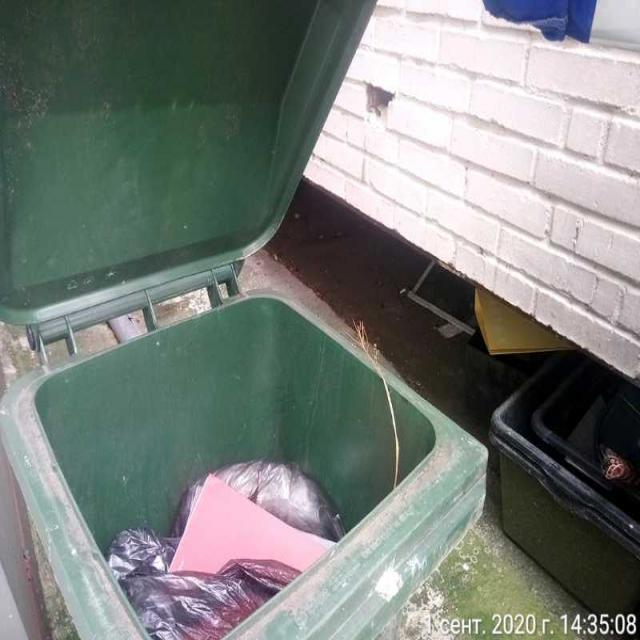Dumpster: (0, 0, 492, 640)
